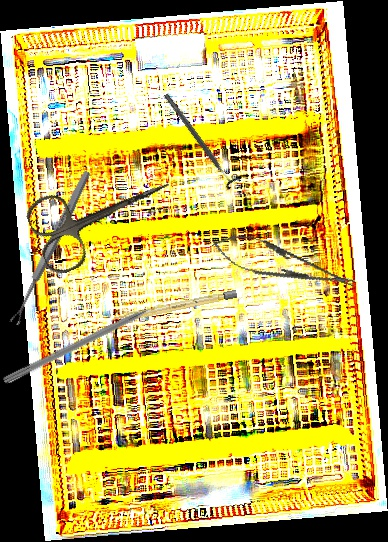Fixation Ring: (158, 89, 242, 191)
Iris Scissors: (21, 149, 186, 279)
Needle Holder: (207, 226, 360, 302)
Pusher: (2, 295, 174, 387)
Scalpel Handle: (109, 289, 238, 325)
Surgical Spoon: (8, 169, 93, 326)
